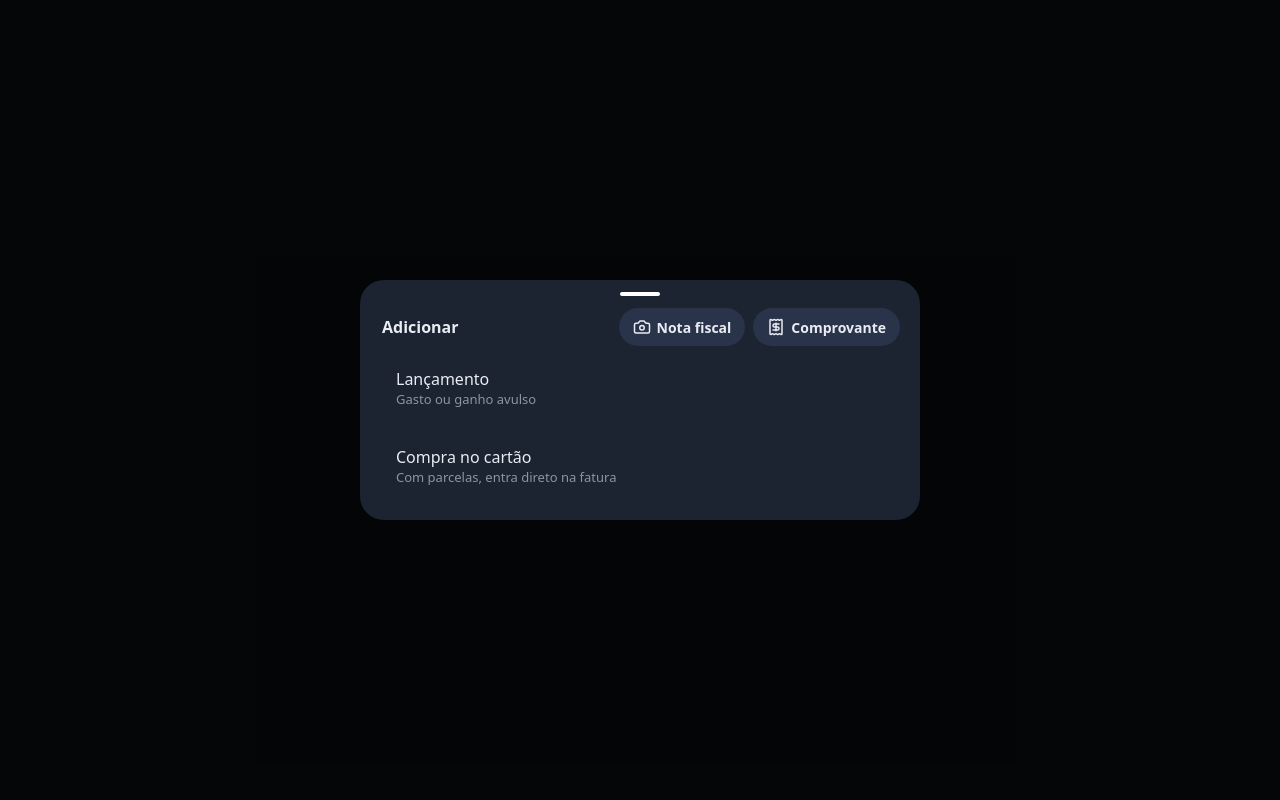
Test: com a casa no topo e cartão bloqueado para compra, pede uma box e não leva a Ajustes
Click the text "Compra no cartão" at (464, 457), box [396, 446, 532, 468]
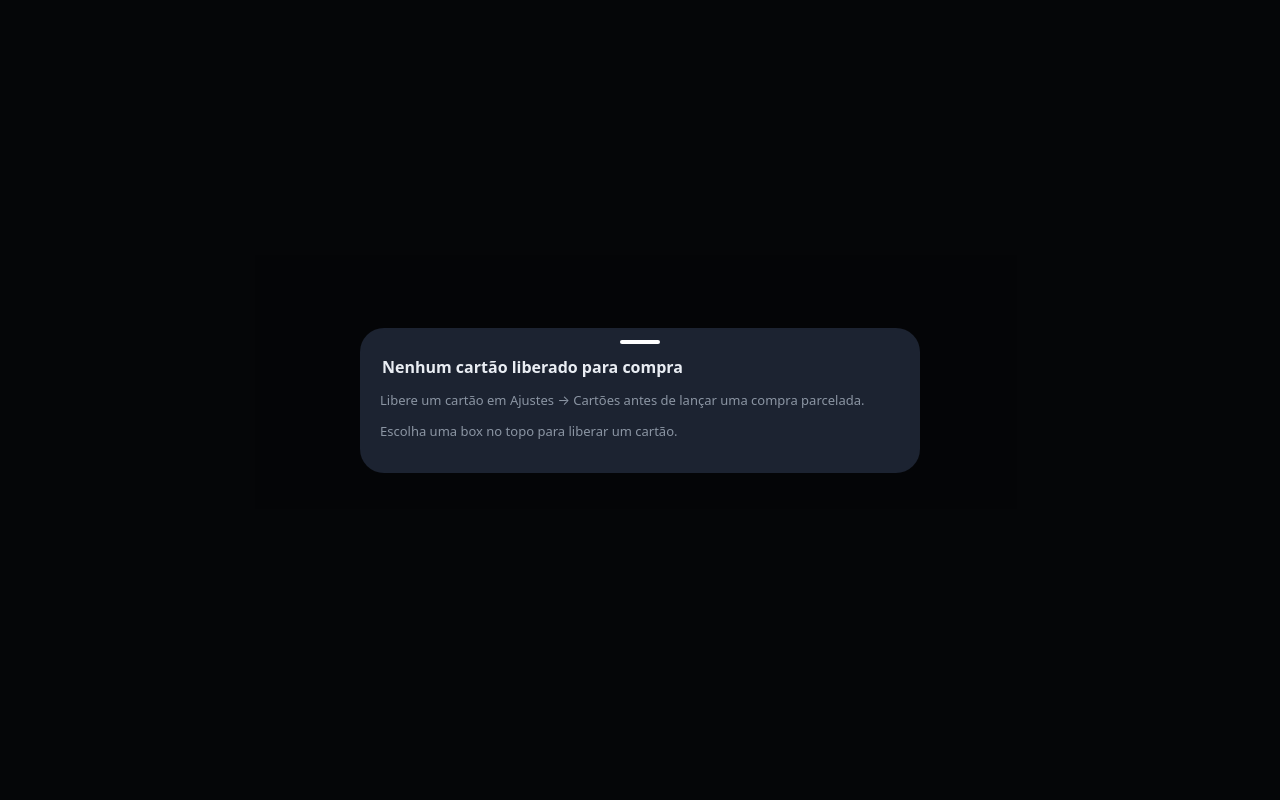
Expected: the heading "Nenhum cartão liberado para compra" is shown, [382, 356, 683, 378]
Expected: the text "Escolha uma box no topo para liberar um cartão." is shown, [380, 422, 678, 440]
